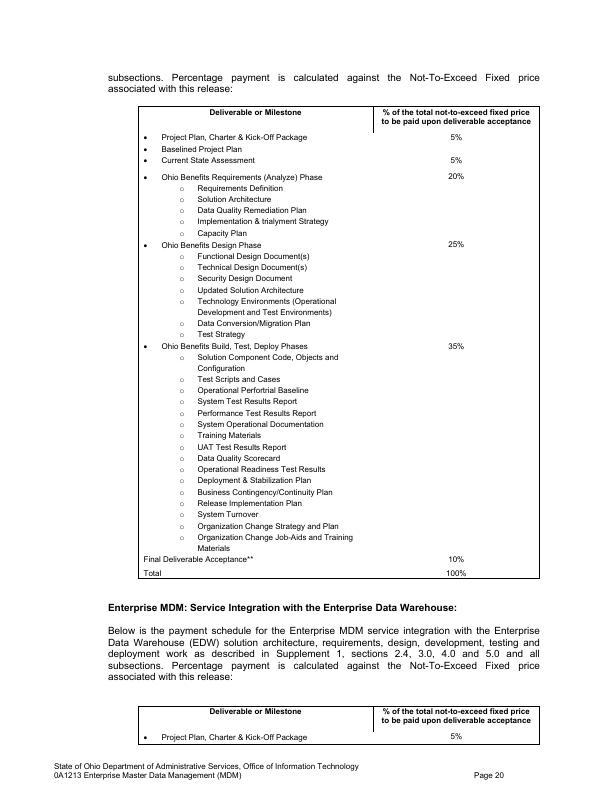table: (136, 703, 545, 749)
text: (134, 101, 545, 586), (107, 601, 545, 686), (104, 66, 542, 95), (48, 757, 366, 785), (468, 767, 514, 780)
